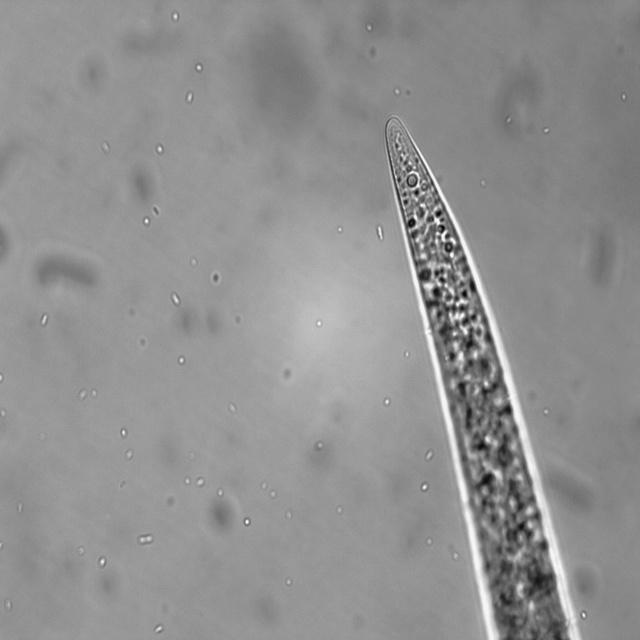Pratylenchus: (375, 111, 590, 624)
